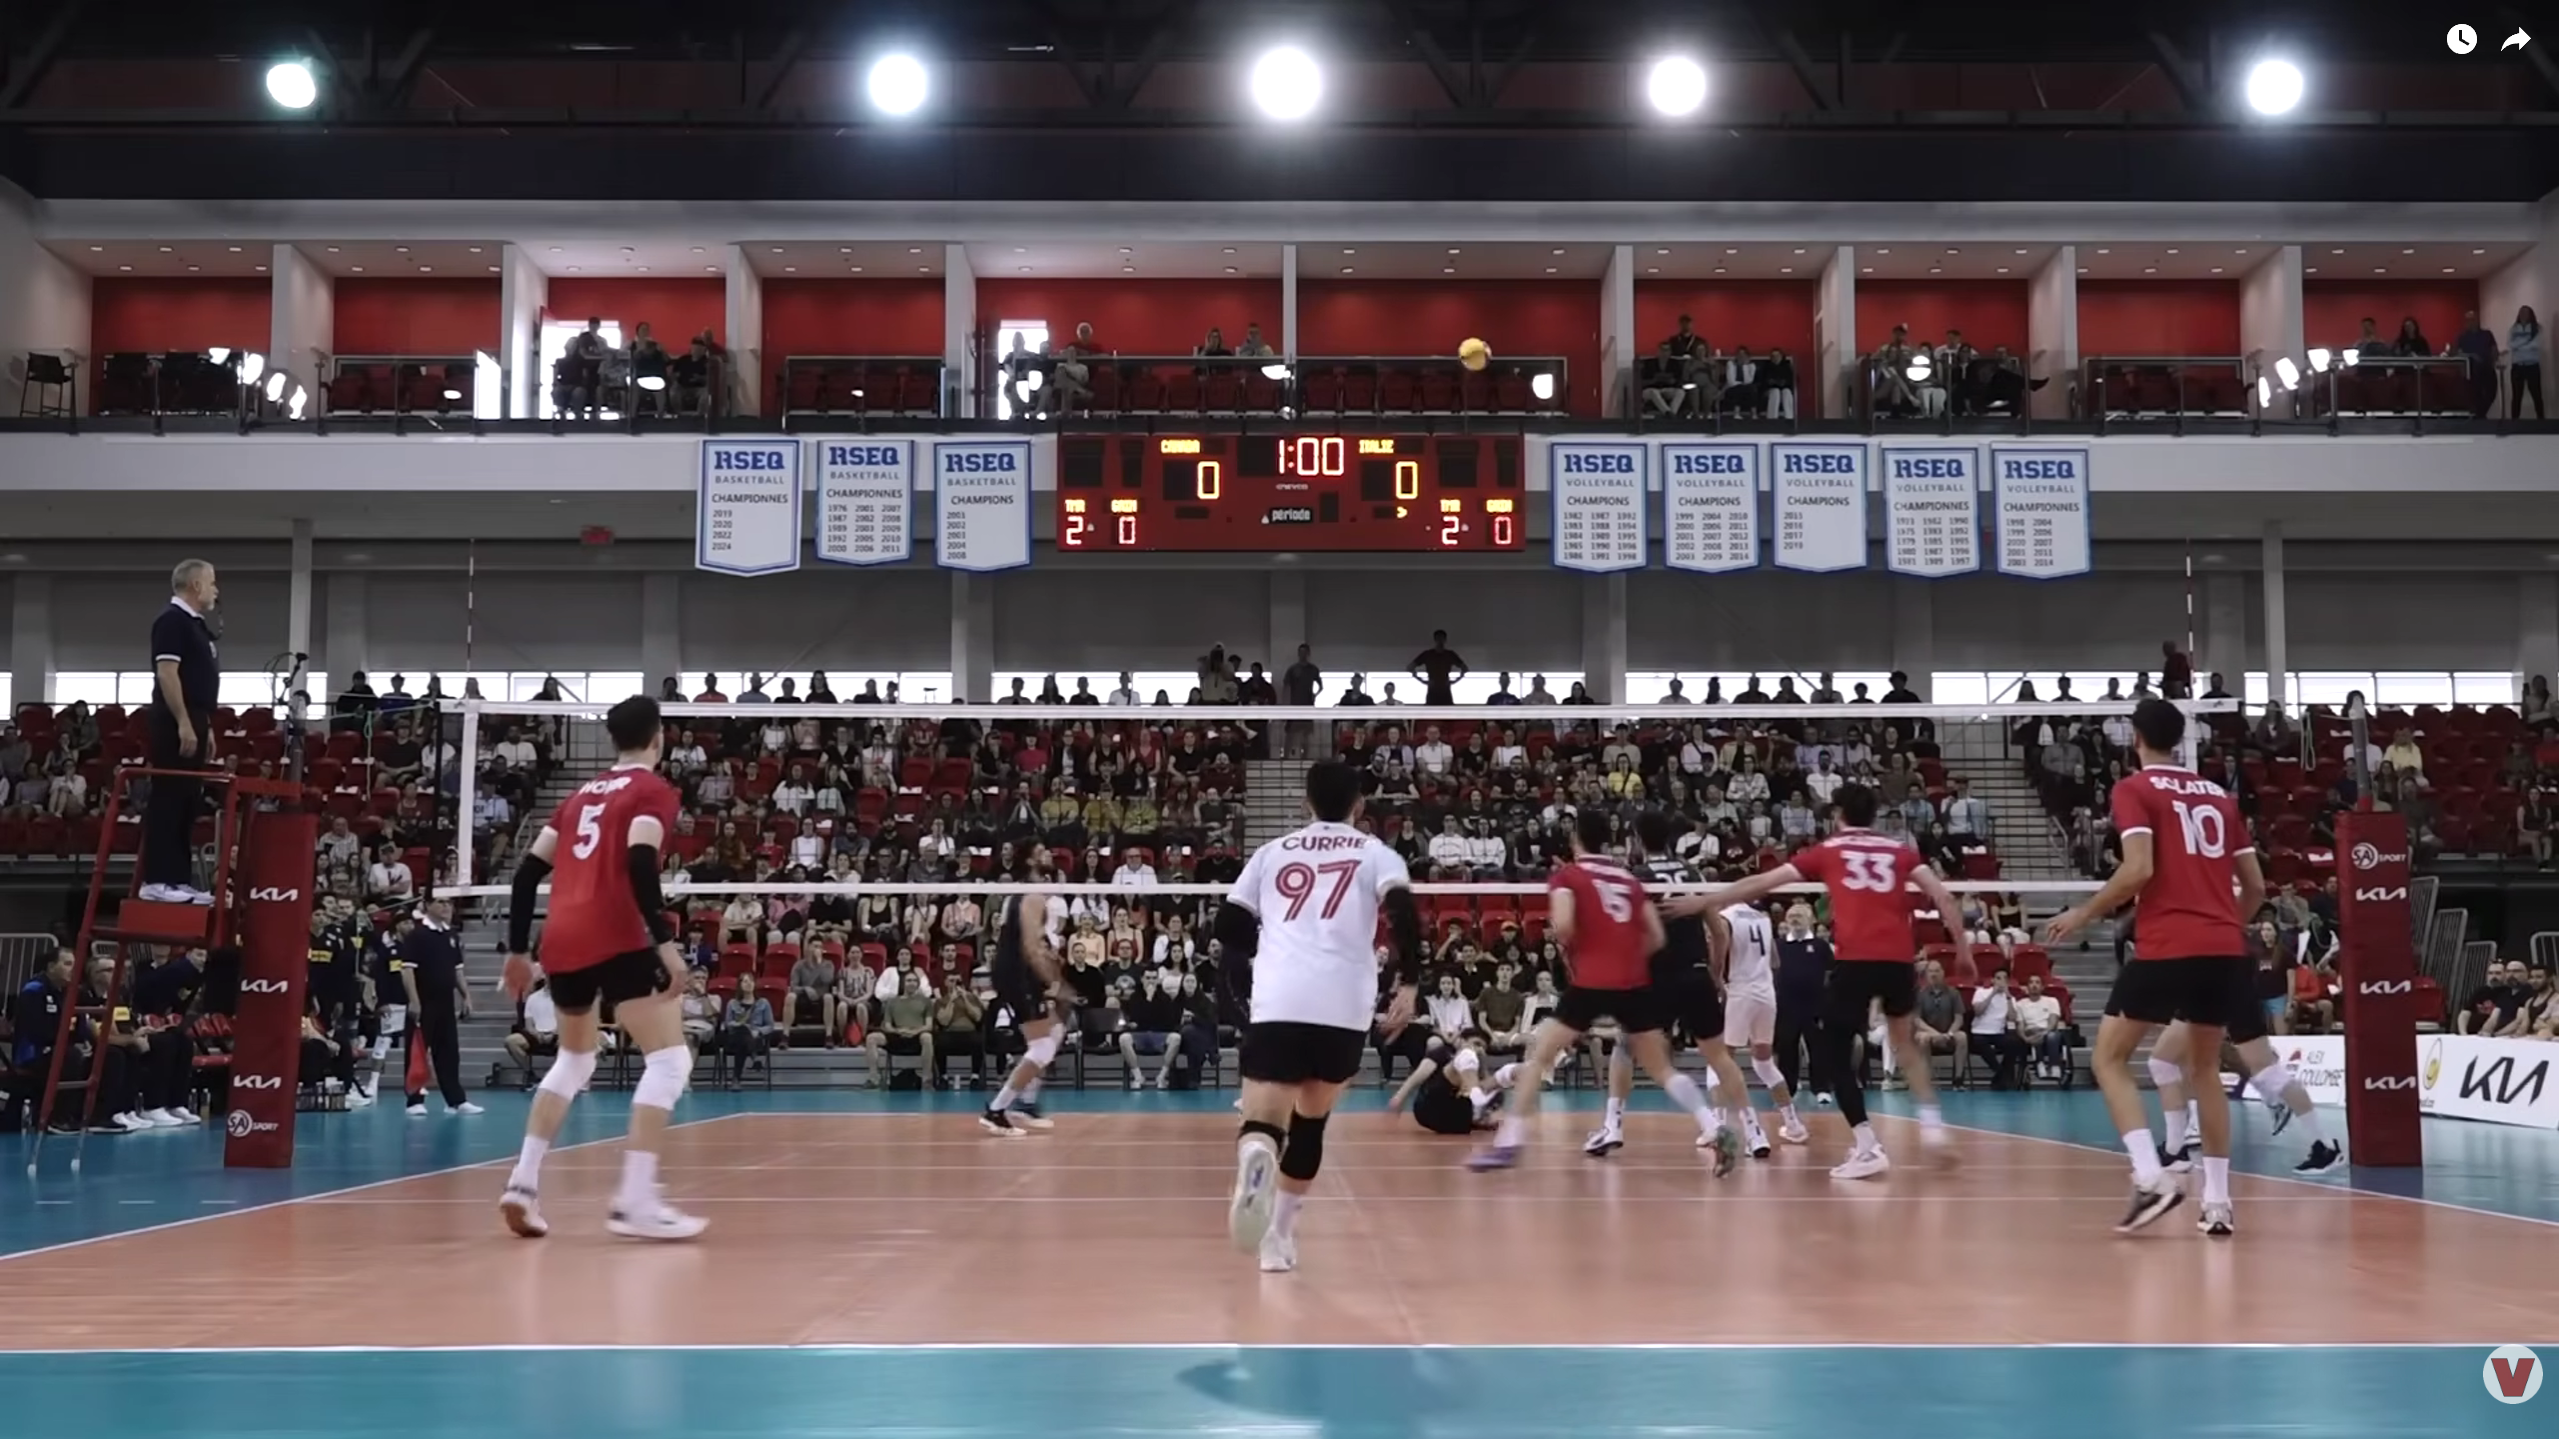Ball: (1457, 337, 1492, 372)
